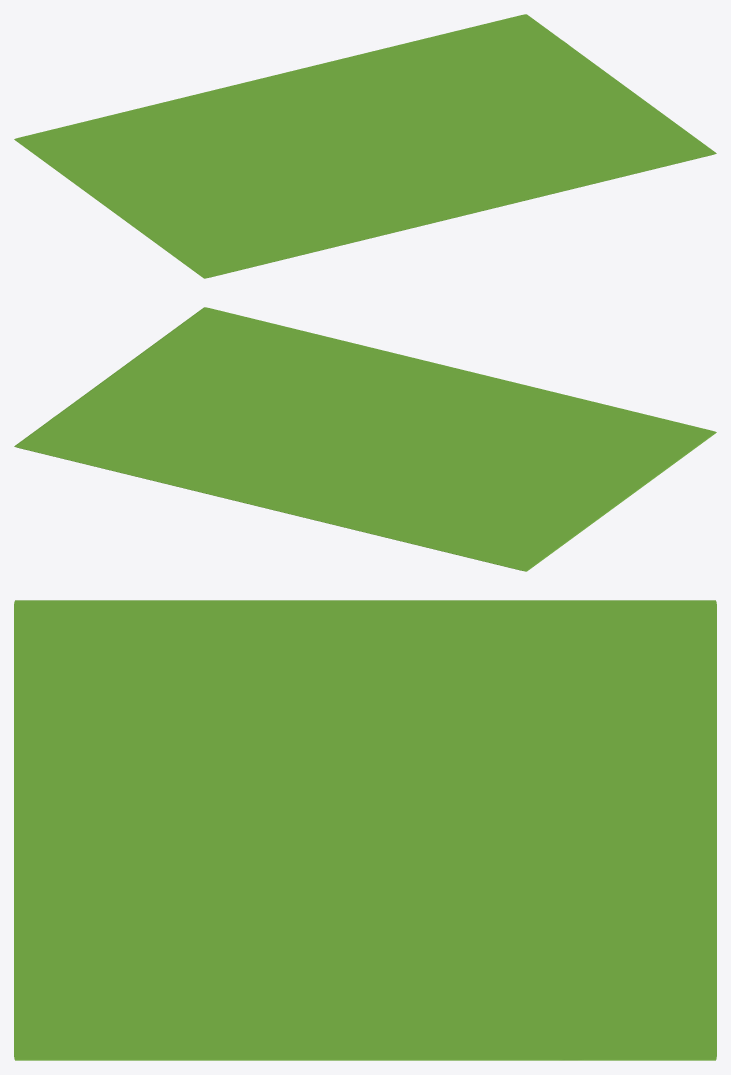
The model's file is ground.glb.
3 views of the same model, one above another, from view 1: azimuth 30°, elevation 25°; view 2: azimuth 150°, elevation 25°; view 3: azimuth 270°, elevation 25° (orthographic). The views are drawn at different scales.
Parts seen in each view (by area): view 1: Box; view 2: Box; view 3: Box.
Part boxes in pixels (left/top/right/bottom): Box: left=14, top=14, right=716, bottom=278; Box: left=14, top=307, right=716, bottom=571; Box: left=14, top=600, right=716, bottom=1060.
Bounding box in the file's own units: 356477 × 113 × 229924.
